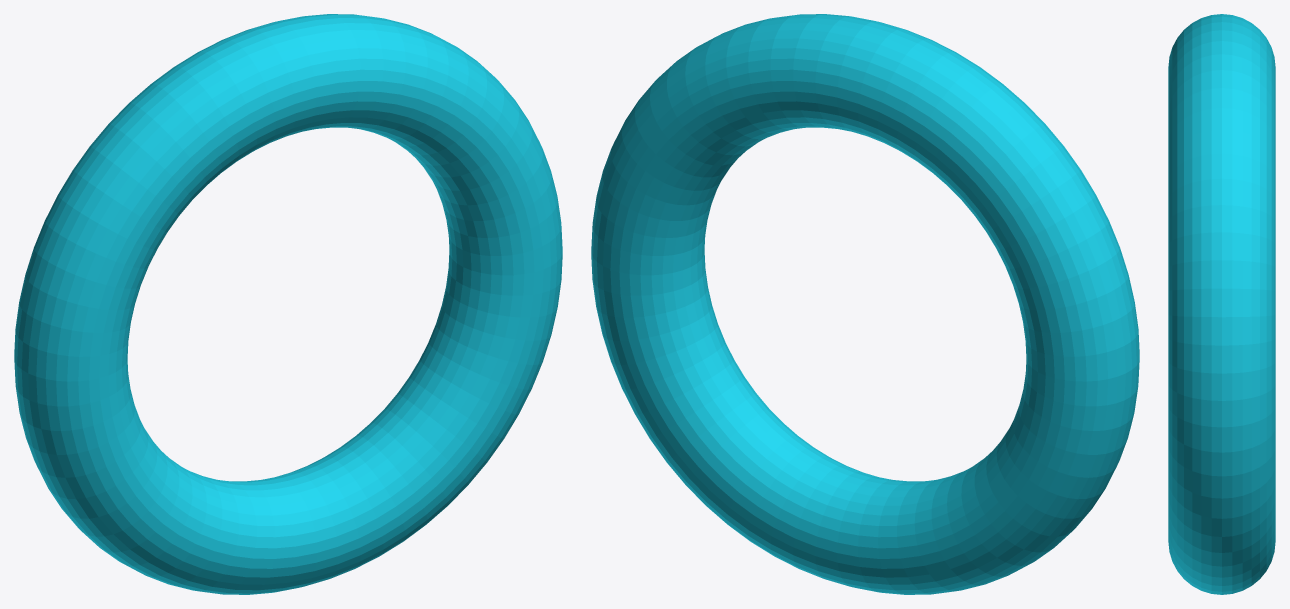
The picture shows the model from 3 angles, left to right: view 1: azimuth 30°, elevation 25°; view 2: azimuth 150°, elevation 25°; view 3: azimuth 270°, elevation 25°; orthographic projection. The views are drawn at different scales.
Parts seen in each view (by area): view 1: world; view 2: world; view 3: world.
Boxes of the visible parts, x1,y1,x2,y2 form: world: (14, 14, 562, 594); world: (591, 14, 1139, 594); world: (1168, 14, 1275, 594).
Size of the model in its own units: 2.82 by 2.82 by 0.52.
